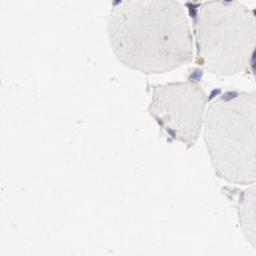nucleus: (183, 1, 204, 22), (188, 67, 203, 83), (221, 91, 239, 102), (250, 48, 256, 79), (166, 126, 177, 142), (207, 89, 223, 99), (153, 115, 164, 127), (195, 39, 201, 55), (111, 1, 123, 6), (223, 1, 234, 5), (252, 9, 256, 17)
positive_cell: (194, 35, 206, 66)
